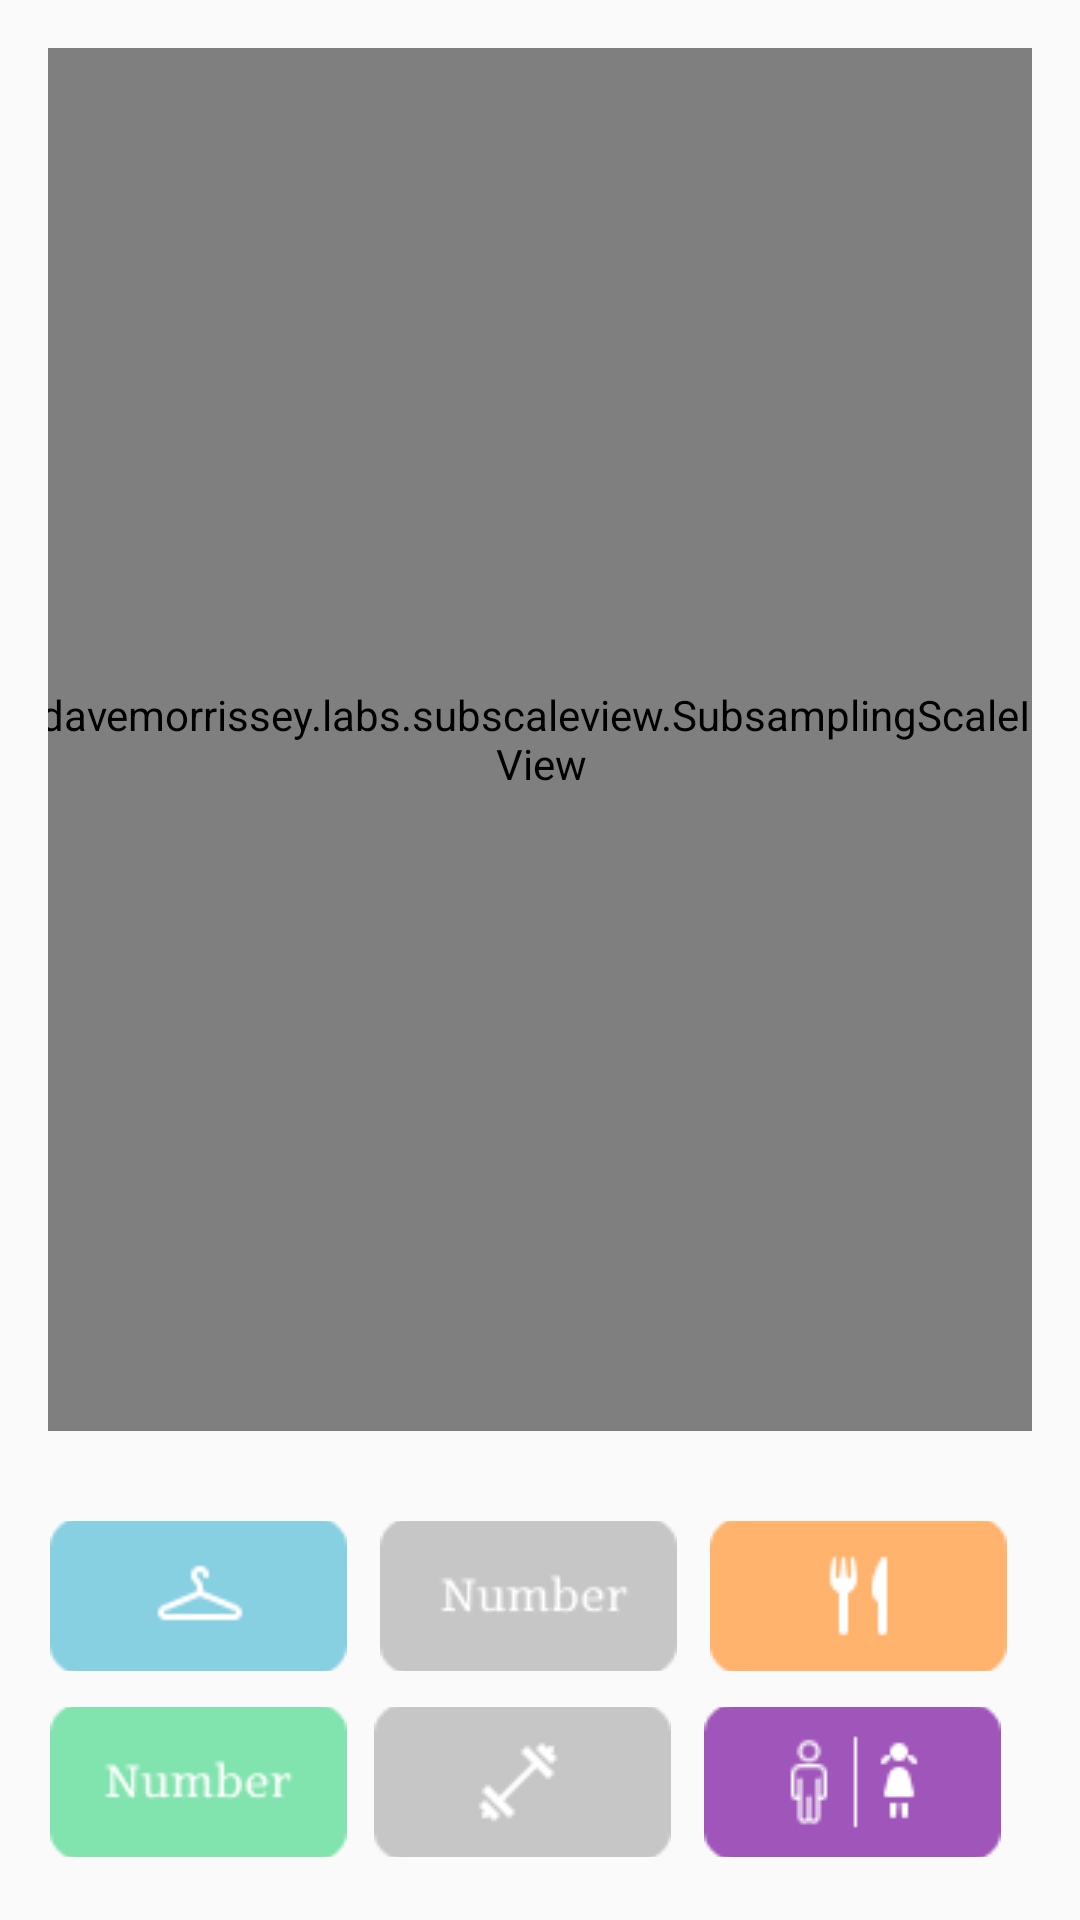

Locate icon controls on the screen. Image size 1080px x 1920px, boxes as {"left": x1, "top": y1, "right": x2, "bottom": y2}.
clothes: {"left": 50, "top": 1521, "right": 347, "bottom": 1671}
eat: {"left": 710, "top": 1521, "right": 1007, "bottom": 1671}
toilet: {"left": 704, "top": 1707, "right": 1001, "bottom": 1857}
training: {"left": 374, "top": 1707, "right": 671, "bottom": 1857}
